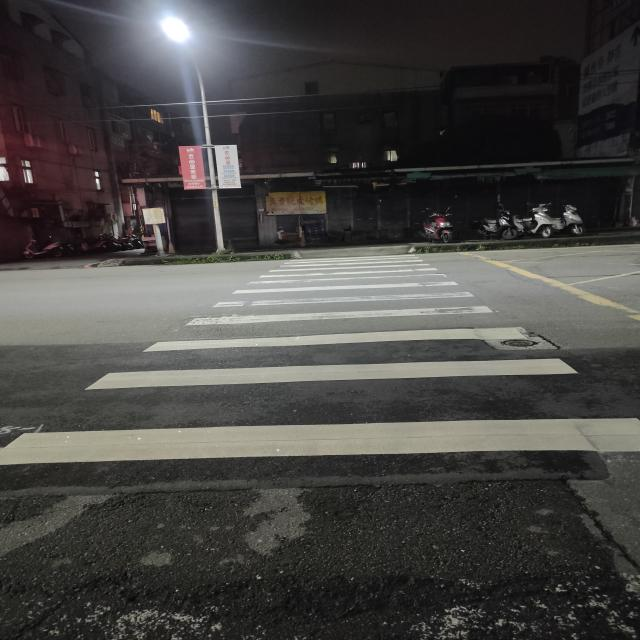zebra crossing: (6, 257, 640, 466)
